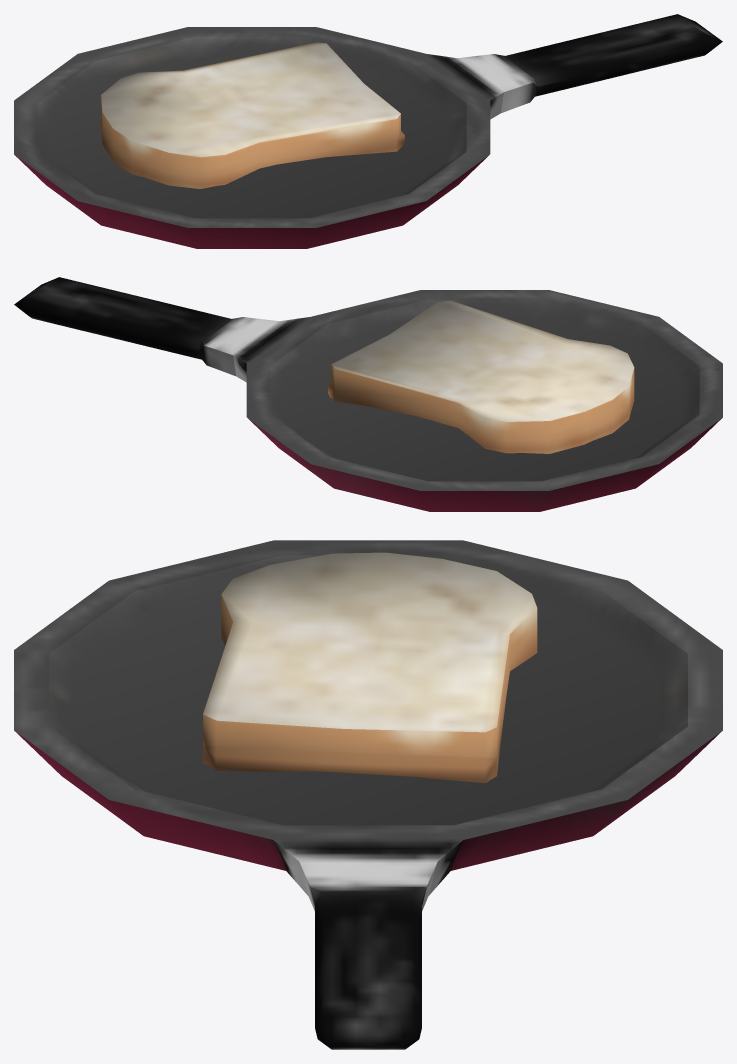
The model's file is FryingPanSandwich.fbx.
The picture shows the model from 3 angles, top to bottom: view 1: azimuth 30°, elevation 25°; view 2: azimuth 150°, elevation 25°; view 3: azimuth 270°, elevation 25°; orthographic projection. The views are drawn at different scales.
Parts seen in each view (by area): view 1: Cheesepan; view 2: Cheesepan; view 3: Cheesepan.
Part boxes in pixels (box(x1,y1,x2,y2)): Cheesepan: box(14, 14, 722, 248); Cheesepan: box(14, 277, 722, 511); Cheesepan: box(14, 540, 722, 1049).
Bounding box in the file's own units: 70.96 × 7.99 × 44.11.
